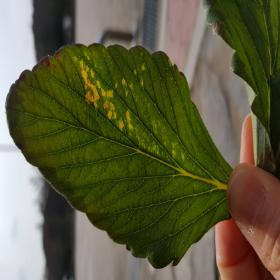Angular Leafspot: (73, 50, 193, 166)
